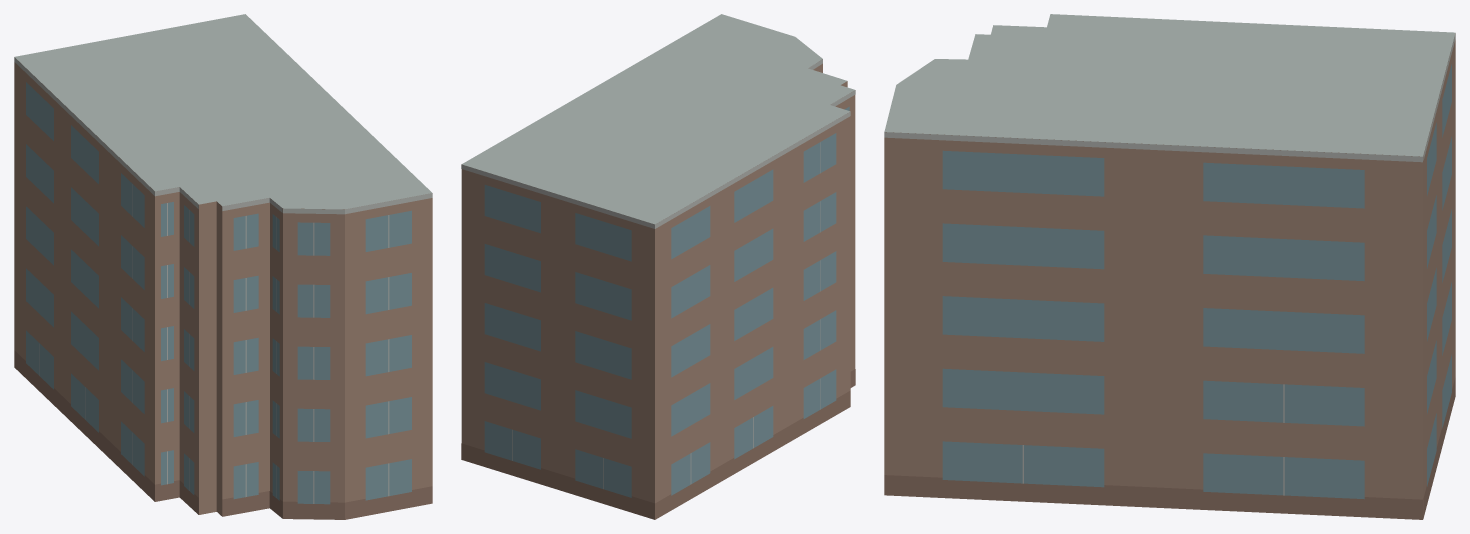
The model's file is survey-upis-32612136.glb.
3 renders of one model, left to right at view 1: azimuth 30°, elevation 25°; view 2: azimuth 150°, elevation 25°; view 3: azimuth 270°, elevation 25°, orthographic. The views are drawn at different scales.
Visible parts, largest first — view 1: survey-upis-32612136.tmp; view 2: survey-upis-32612136.tmp; view 3: survey-upis-32612136.tmp.
Boxes of the visible parts, x1,y1,x2,y2 form: survey-upis-32612136.tmp: (14,14,432,519); survey-upis-32612136.tmp: (461,14,855,519); survey-upis-32612136.tmp: (884,14,1455,519).
Size of the model in its own units: 13.18 by 15.65 by 22.32.
